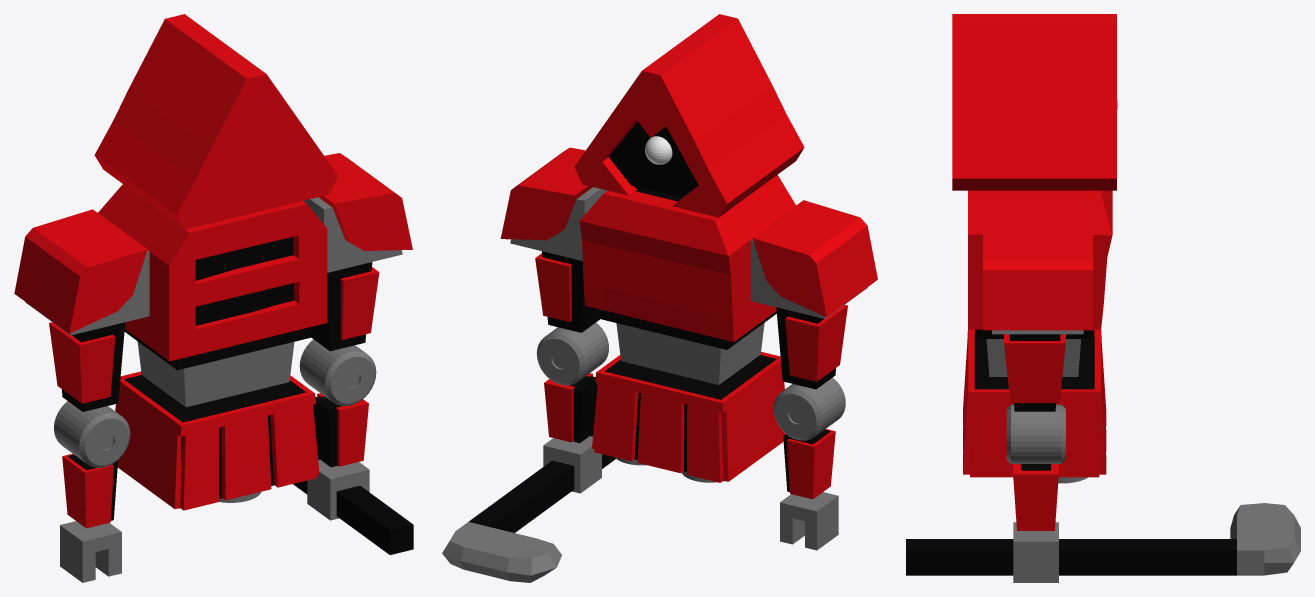
File: robot001.fbx
The picture shows the model from 3 angles, left to right: view 1: azimuth 30°, elevation 25°; view 2: azimuth 150°, elevation 25°; view 3: azimuth 270°, elevation 25°; orthographic projection. The views are drawn at different scales.
Parts seen in each view (by area): view 1: body.016, body.020, body.021, body.001, body.025, body.022, body.027, body.015, body.010, body.019, body.018, body.004 (+9 smaller); view 2: body.016, body.020, body.021, body.025, body.019, body.001, body.022, body.002, body.027, body.010, body.015, body.004 (+11 smaller); view 3: body.016, body.019, body.022, body.021, body.020, body.026, body.010, body.023, body.017, body.004, body.001, body.006.
Boxes of the visible parts, x1,y1,x2,y2 form: body.016: (94, 14, 337, 229); body.020: (98, 184, 327, 361); body.021: (115, 371, 319, 510); body.001: (124, 237, 311, 407); body.025: (14, 209, 147, 333); body.022: (318, 153, 412, 250); body.027: (49, 322, 115, 403); body.015: (54, 401, 130, 467); body.010: (299, 339, 376, 405); body.019: (293, 458, 413, 554); body.018: (60, 521, 121, 582); body.004: (124, 375, 305, 508); body.016: (574, 14, 804, 217); body.020: (579, 175, 795, 341); body.021: (592, 351, 785, 482); body.025: (752, 200, 877, 317); body.019: (442, 434, 615, 582); body.001: (600, 186, 776, 384); body.022: (500, 147, 592, 240); body.002: (609, 121, 698, 197); body.027: (785, 305, 847, 381); body.010: (536, 322, 608, 385); body.015: (773, 377, 845, 440); body.004: (605, 355, 776, 481); body.016: (952, 14, 1116, 190); body.019: (906, 503, 1300, 575); body.022: (983, 226, 1092, 330); body.021: (963, 329, 1106, 477); body.020: (968, 190, 1112, 329); body.026: (1004, 334, 1065, 402); body.010: (1006, 404, 1065, 463); body.023: (1013, 464, 1058, 530); body.017: (1013, 522, 1058, 582); body.004: (974, 329, 1094, 389); body.001: (976, 329, 1091, 376); body.006: (1009, 334, 1060, 411).
Size of the model in its own units: 873 by 1192 by 863.
